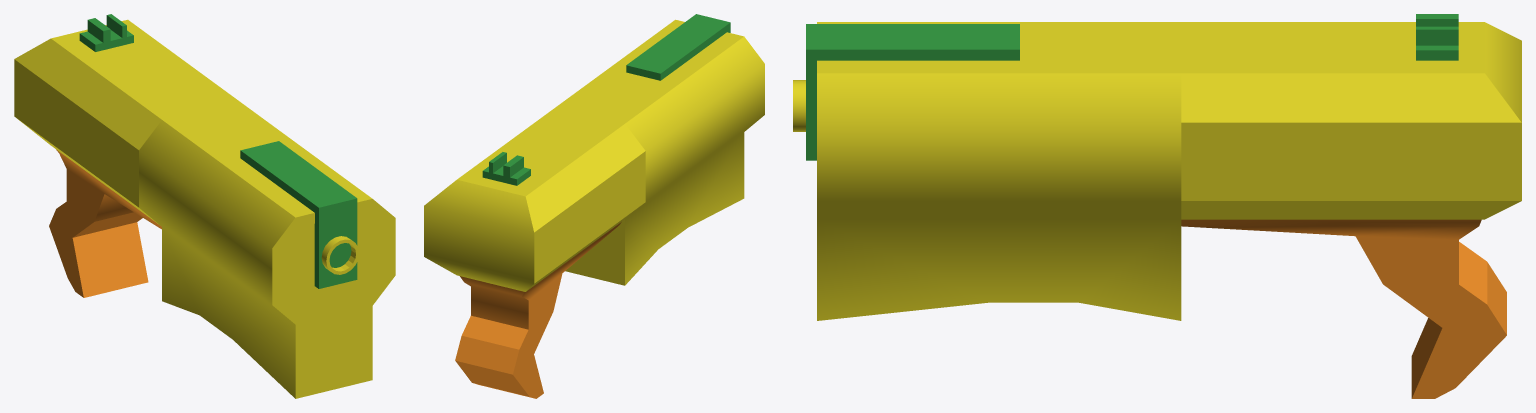
Rendered from mode_waterpistol.FBX.
The picture shows the model from 3 angles, left to right: view 1: azimuth 30°, elevation 25°; view 2: azimuth 150°, elevation 25°; view 3: azimuth 270°, elevation 25°; orthographic projection. The views are drawn at different scales.
Visible parts, largest first — view 1: Box001; view 2: Box001; view 3: Box001.
Part boxes in pixels (left/top/right/bottom): Box001: left=14, top=14, right=395, bottom=398; Box001: left=424, top=14, right=764, bottom=398; Box001: left=793, top=14, right=1521, bottom=398.
Bounding box in the file's own units: 16 × 32.33 × 60.01.
Materials: 1 (1 with a texture image).
